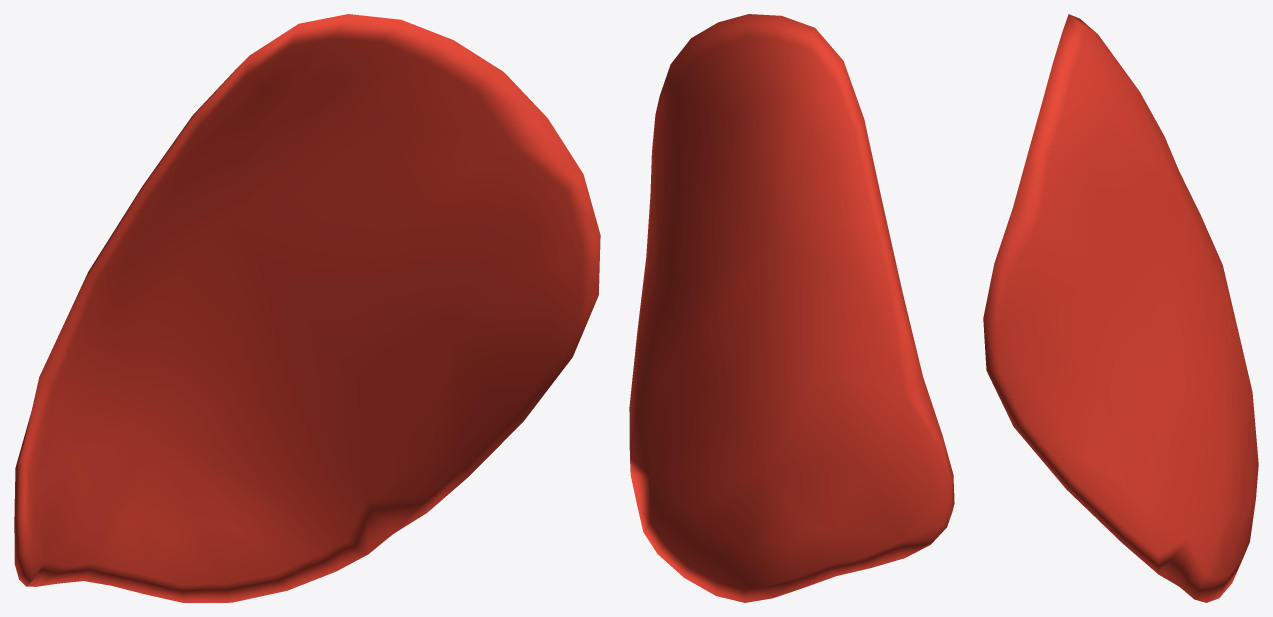
The model's file is Inferior_gemellus_muscle-Ischiatic_insertion.r_Generated_Mesh_F.glb.
The picture shows the model from 3 angles, left to right: view 1: azimuth 30°, elevation 25°; view 2: azimuth 150°, elevation 25°; view 3: azimuth 270°, elevation 25°; orthographic projection. The views are drawn at different scales.
Parts seen in each view (by area): view 1: Inferior_gemellus_muscle-Ischiatic_insertion.r_Generated_Mes; view 2: Inferior_gemellus_muscle-Ischiatic_insertion.r_Generated_Mes; view 3: Inferior_gemellus_muscle-Ischiatic_insertion.r_Generated_Mes.
Part boxes in pixels (bbox=[...]): Inferior_gemellus_muscle-Ischiatic_insertion.r_Generated_Mes: bbox=[14, 14, 600, 602]; Inferior_gemellus_muscle-Ischiatic_insertion.r_Generated_Mes: bbox=[629, 14, 954, 602]; Inferior_gemellus_muscle-Ischiatic_insertion.r_Generated_Mes: bbox=[983, 14, 1258, 602].
Size of the model in its own units: 0.0129 by 0.0169 by 0.00756.
